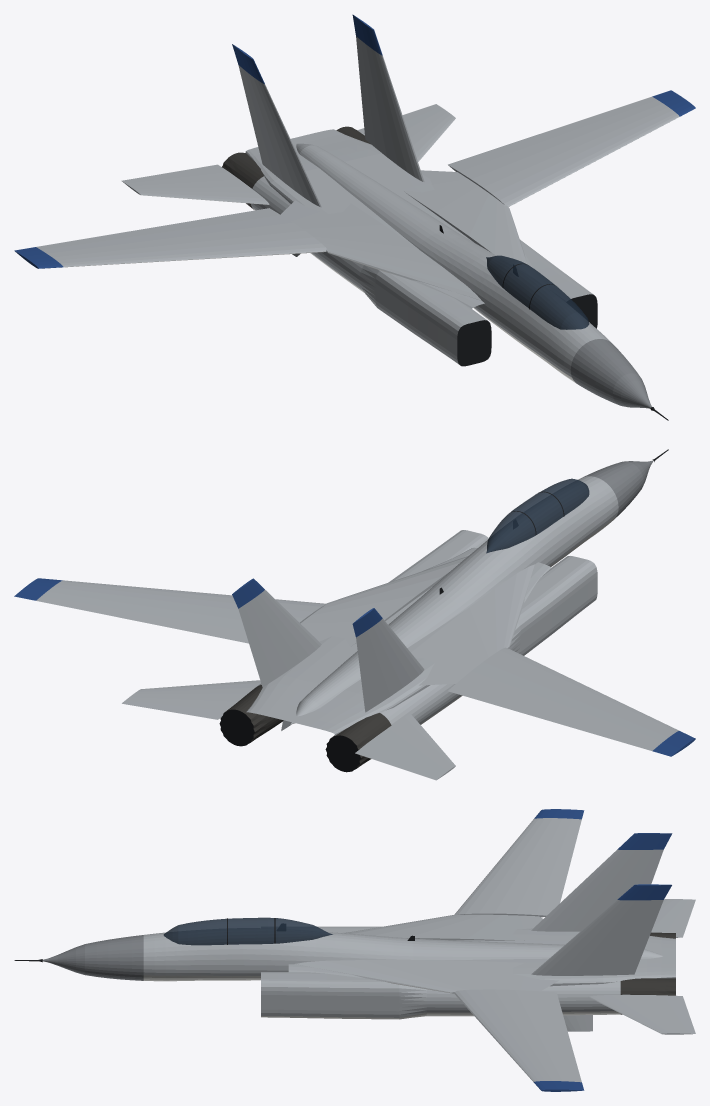
3 views of the same model, one above another, from view 1: azimuth 30°, elevation 25°; view 2: azimuth 150°, elevation 25°; view 3: azimuth 270°, elevation 25° (orthographic). The views are drawn at different scales.
Visible parts, largest first — view 1: airframe, wing_L, wing_R, canopy; view 2: airframe, wing_R, wing_L, canopy; view 3: airframe, wing_R, wing_L, canopy.
Part boxes in pixels (x1,y1,x2,y2): airframe: (121, 14, 668, 420); wing_L: (448, 90, 695, 206); wing_R: (14, 208, 326, 268); canopy: (486, 255, 589, 329); airframe: (122, 449, 668, 780); wing_R: (448, 647, 695, 756); wing_L: (14, 578, 326, 643); canopy: (486, 478, 589, 553); airframe: (14, 833, 695, 1034); wing_R: (454, 809, 584, 917); wing_L: (454, 989, 584, 1091); canopy: (163, 917, 332, 945).
Size of the model in its own units: 19.2 by 4.74 by 19.73.
